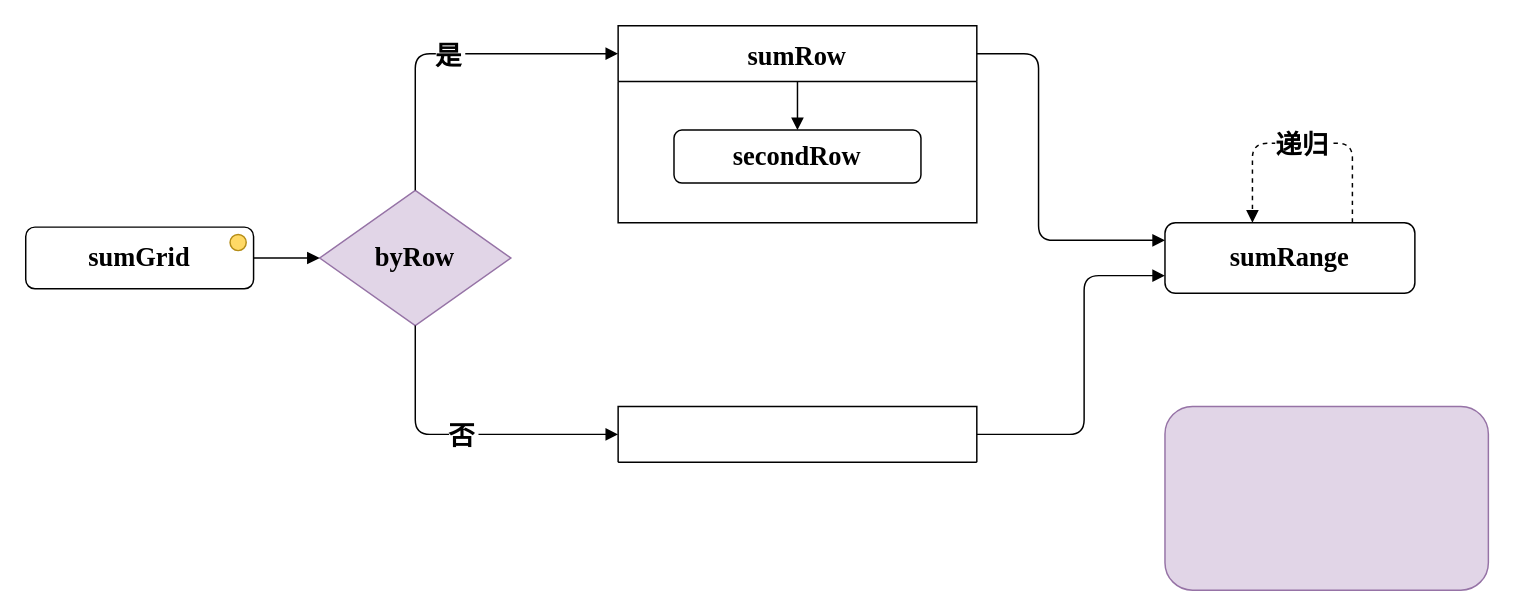
Some shapes in this 1514 by 616 pixel diagram are drawn without their labels. Each missing label, with the box of its shape:
sumColumn: (617, 405, 977, 462)
分支选择 两个分支调用同一个 sumRange 函数，并使用不同的步长。: (1164, 405, 1488, 590)
